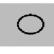no answer: (15, 12, 46, 35)
